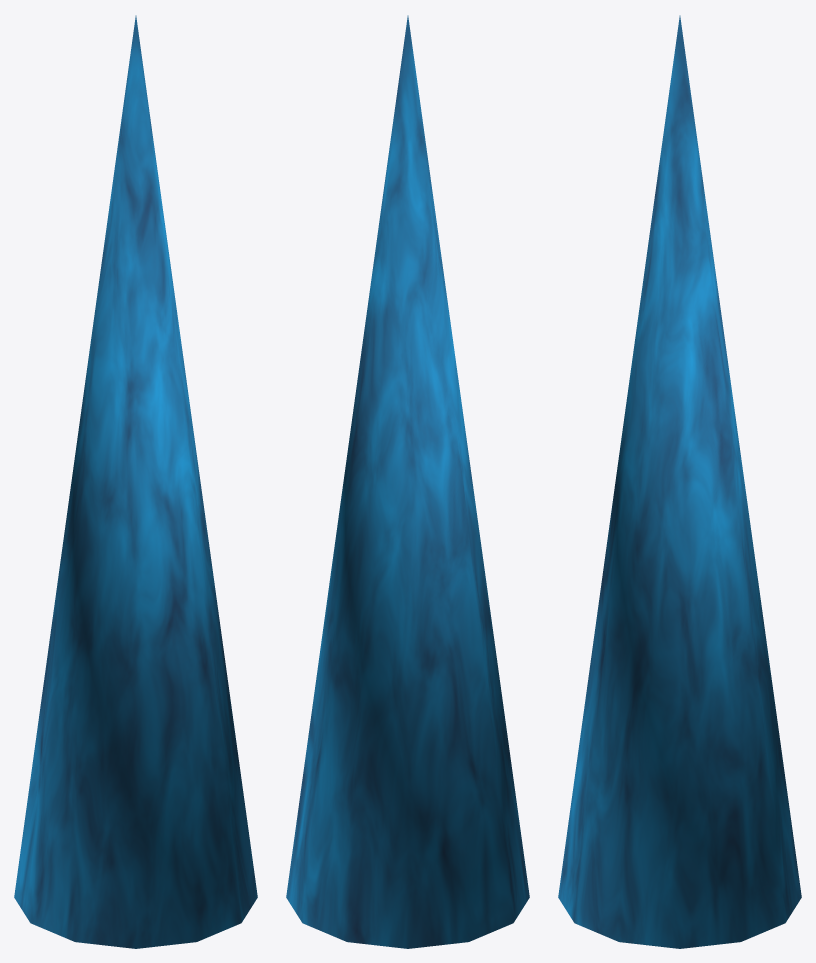
File: Spine.fbx
The picture shows the model from 3 angles, left to right: view 1: azimuth 30°, elevation 25°; view 2: azimuth 150°, elevation 25°; view 3: azimuth 270°, elevation 25°; orthographic projection.
Visible parts, largest first — view 1: Spine; view 2: Spine; view 3: Spine.
Boxes of the visible parts, left/top/right/bottom form: Spine: left=14, top=15, right=257, bottom=948; Spine: left=286, top=15, right=529, bottom=948; Spine: left=558, top=15, right=801, bottom=948.
Size of the model in its own units: 10 by 40 by 10.
